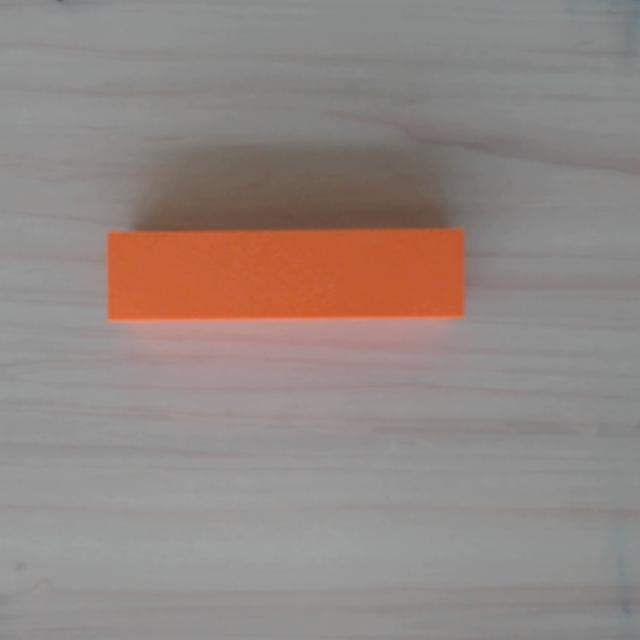Balok-Jingga-1002525: (106, 228, 465, 321)
